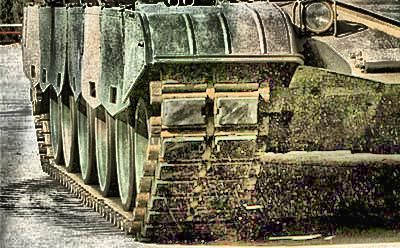tanks: (24, 1, 400, 239)
